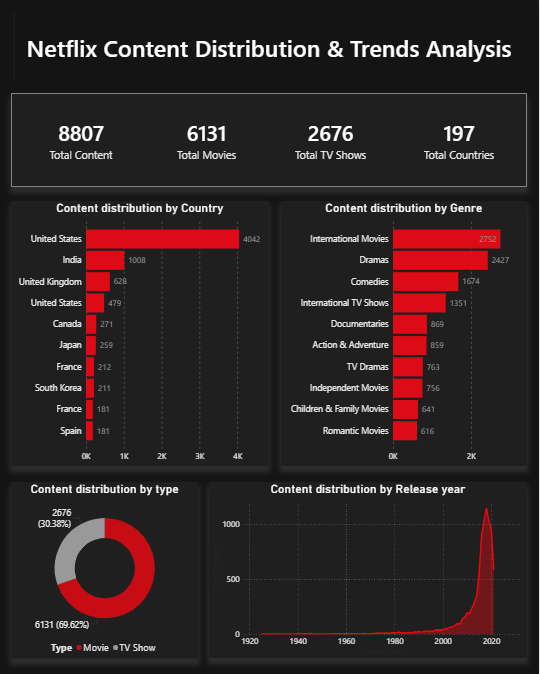

The dashboard page shown, as its layout file describes it:
{"tool":"powerbi","page":{"name":"Page 1","canvas":[1080,1350],"ordinal":0},"visuals":[{"type":"shape","box":[24,186,1032,188],"z":0},{"type":"cardVisual","fields":{"Data":["All_Measures.Total Titles"]},"box":[74,204,180,150],"z":1000},{"type":"cardVisual","fields":{"Data":["All_Measures.Total Movies"]},"box":[322,204,186,150],"z":2000},{"type":"cardVisual","fields":{"Data":["All_Measures.Total TV Shows"]},"box":[560,204,206,150],"z":3000},{"type":"cardVisual","fields":{"Data":["All_Measures.Countries"]},"box":[824,204,192,150],"z":4000},{"type":"donutChart","title":"Content distribution by type","fields":{"Y":["All_Measures.Total Titles"],"Category":["netflix_titles.type"]},"box":[23.8,963.8,375,352.5],"z":5000},{"type":"areaChart","title":"Content distribution by Release year","fields":{"Category":["netflix_titles.release_year"],"Y":["All_Measures.Total Titles"]},"box":[420,964,636,352],"z":6000},{"type":"barChart","title":"Content distribution by Country","fields":{"Category":["country_mapping.country"],"Y":["CountNonNull(country_mapping.show_id)"]},"box":[24,402,516,530],"z":7000},{"type":"barChart","title":"Content distribution by Genre","fields":{"Category":["category_mapping.listed_in"],"Y":["CountNonNull(category_mapping.show_id)"]},"box":[564,402,492,530],"z":8000},{"type":"cardVisual","fields":{"Data":["All_Measures.Title"]},"box":[24,18,1032,152],"z":9000}]}

Visuals, with their boxes in screenshot pixels (x1, y1, x2, y2), scaled from the page's 1080x1350 canvas onto the 540x674 screenshot:
shape: locate(12, 93, 528, 187)
cardVisual - All_Measures.Total Titles: locate(37, 102, 127, 177)
cardVisual - All_Measures.Total Movies: locate(161, 102, 254, 177)
cardVisual - All_Measures.Total TV Shows: locate(280, 102, 383, 177)
cardVisual - All_Measures.Countries: locate(412, 102, 508, 177)
"Content distribution by type" donutChart: locate(12, 481, 199, 657)
"Content distribution by Release year" areaChart: locate(210, 481, 528, 657)
"Content distribution by Country" barChart: locate(12, 201, 270, 465)
"Content distribution by Genre" barChart: locate(282, 201, 528, 465)
cardVisual - All_Measures.Title: locate(12, 9, 528, 85)
